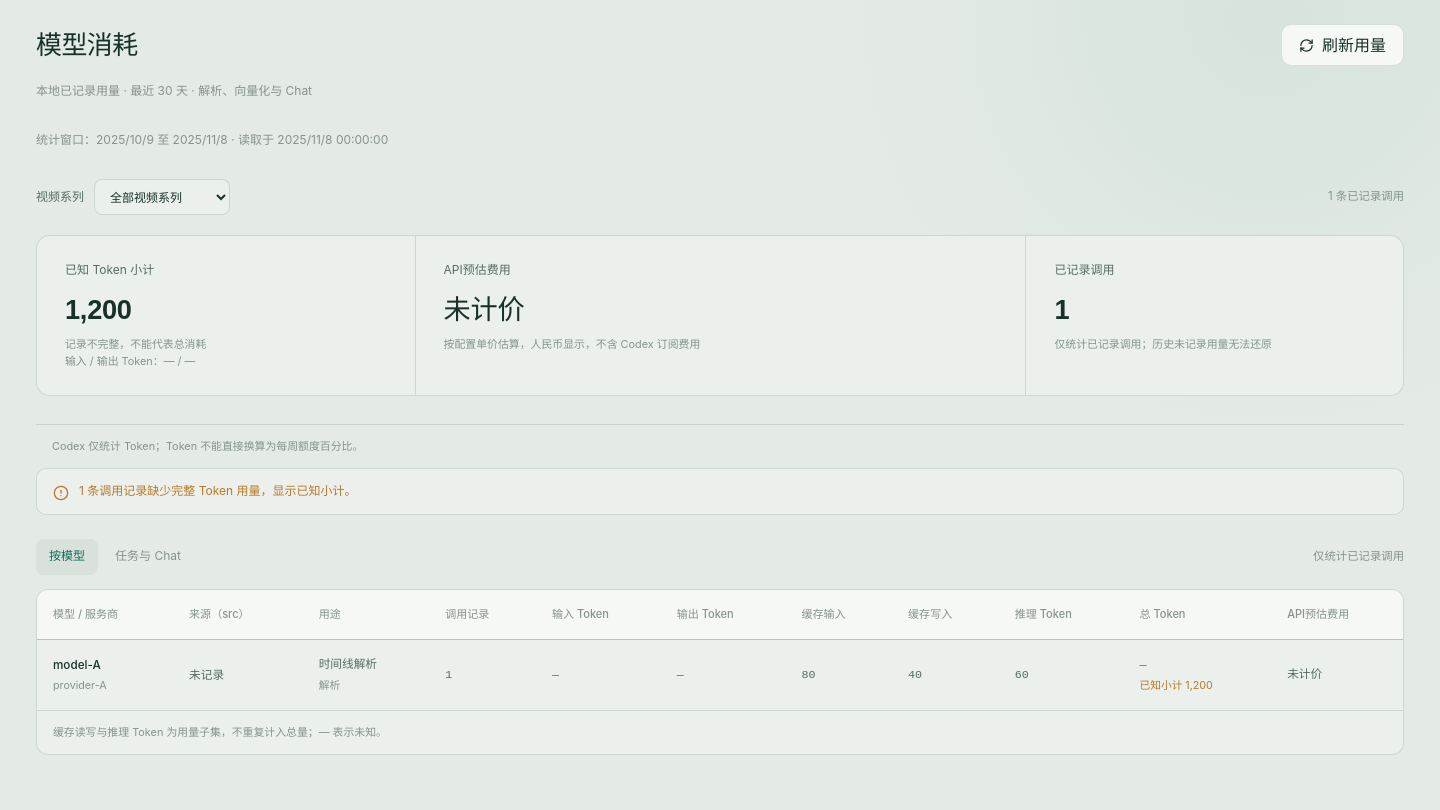
Scenario: local Token usage page › shows known model and run subtotals when complete usage is unknown
The width and height of the screenshot is (1440, 810).
Expected: the text "已知小计 1,200" is shown, [1140,679,1213,692]
Expected: the text "—" is shown 3 times, [536,639,661,710]; [661,639,786,710]; [1124,639,1271,710]
What coordinates should you click on to do the following:
click the button "任务与 Chat"
I would click on:
 (148, 557)
Its box is [102,539,194,575].
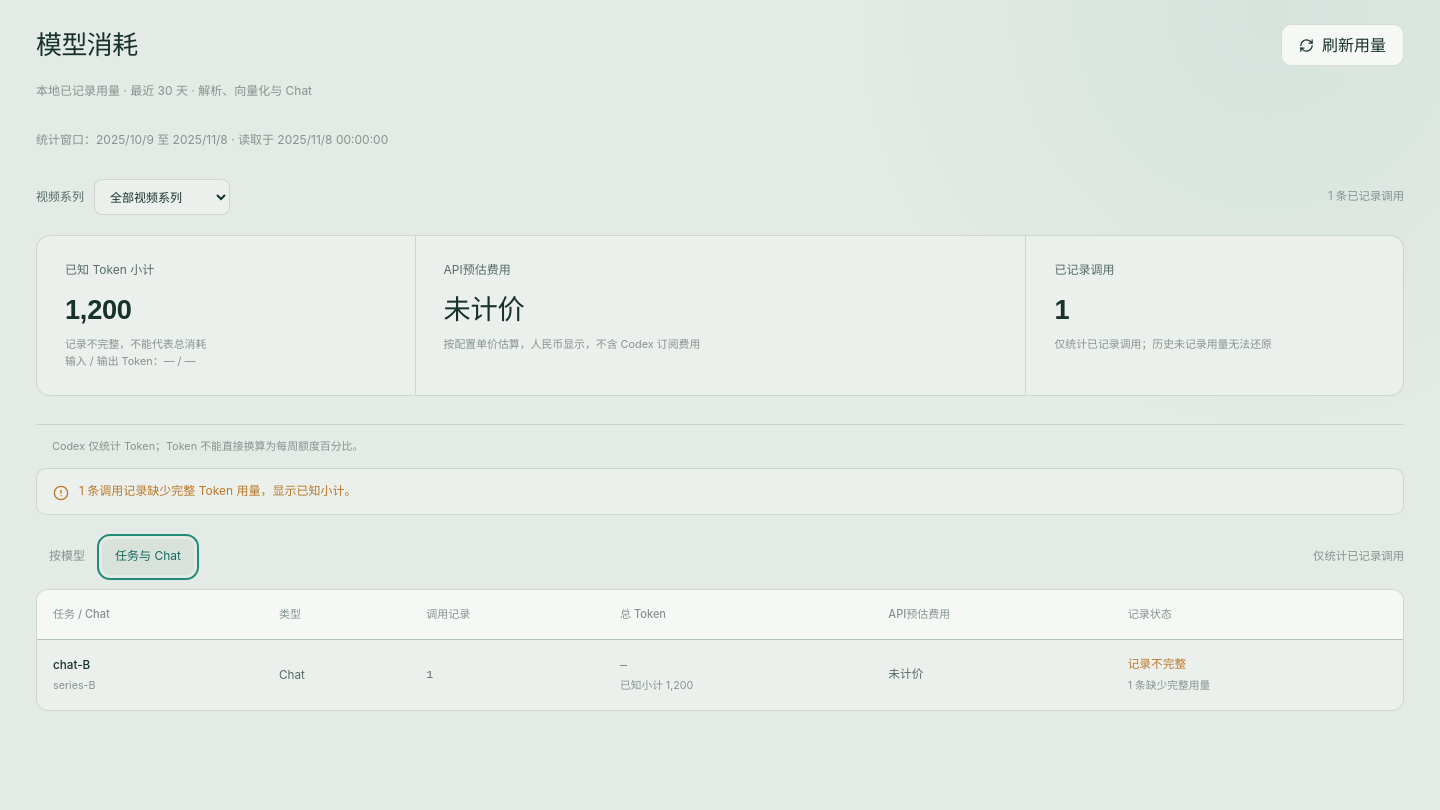
Expected: the text "已知小计 1,200" is shown, [620,679,693,692]
Now the text "记录不完整" is shown, box [1128,658,1186,672]
